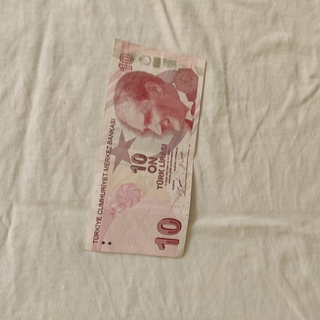10TLFront: (83, 36, 207, 258)
